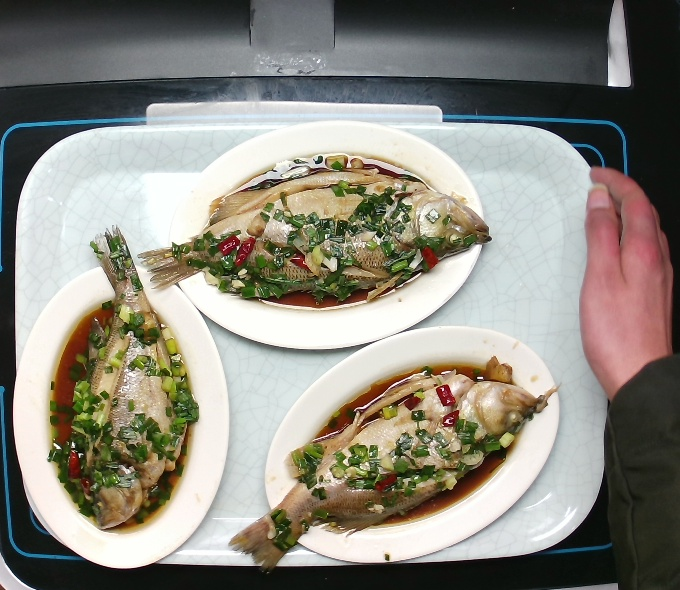wcq-LuYu: (228, 347, 556, 574), (136, 152, 502, 316), (44, 231, 197, 535)
